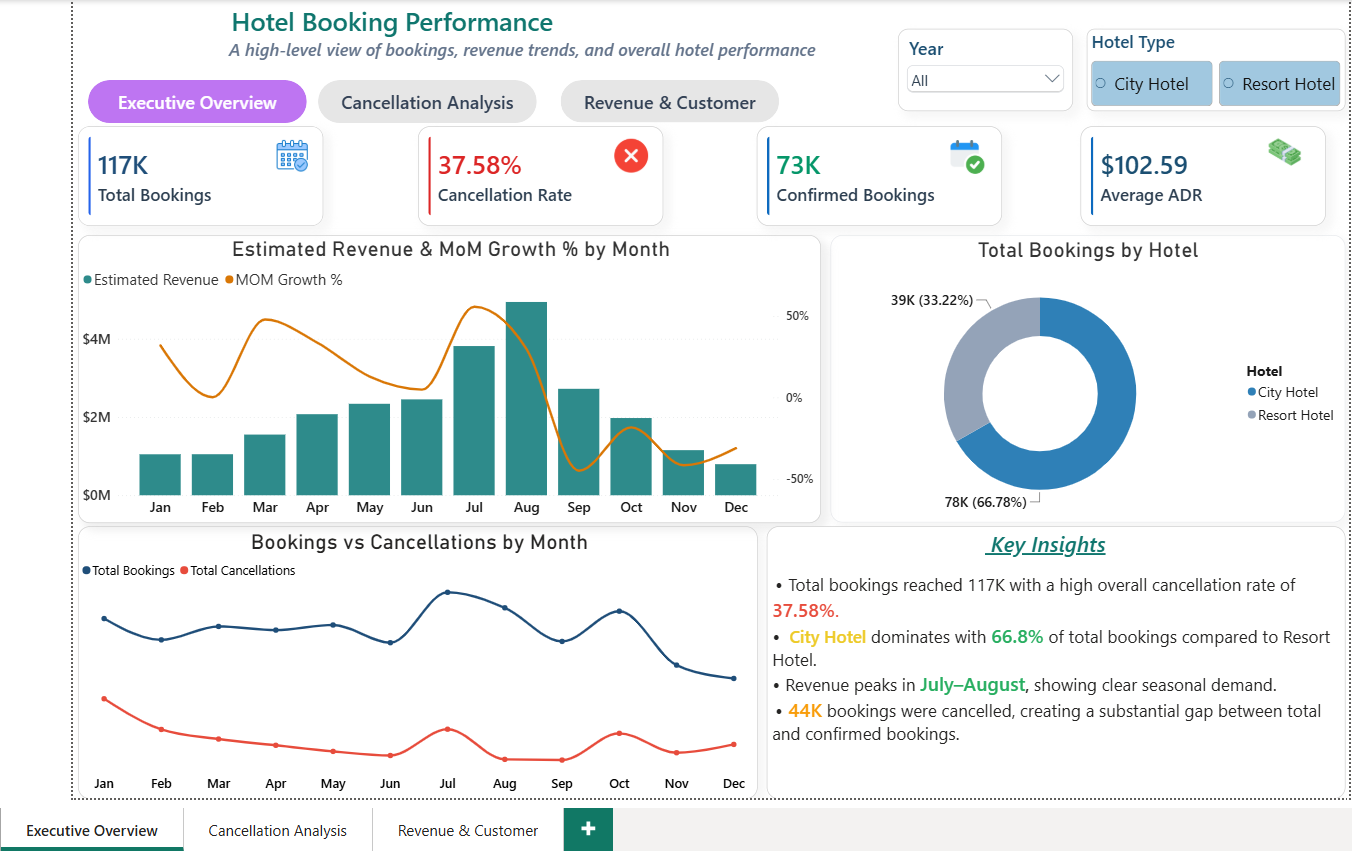

The page's visual inventory and layout, read from the dashboard file:
{"tool":"powerbi","page":{"name":"Executive Overview","canvas":[1600,1000],"ordinal":0},"visuals":[{"type":"textbox","box":[158.1,0,790.5,82],"z":0},{"type":"lineChart","title":"Bookings vs Cancellations by Month","fields":{"Category":["Calendar Table.Month Name"],"Y":["_Measure.Total Bookings","_Measure.Total Cancellations"]},"box":[6.3,659.1,851,341.3],"z":1000},{"type":"donutChart","title":"Total Bookings by Hotel","fields":{"Category":["hotel_bookings_clean.hotel"],"Y":["hotel_bookings_clean.Total Bookings"]},"box":[948.7,294.3,645,360.1],"z":2000},{"type":"lineClusteredColumnComboChart","title":"Estimated Revenue & MoM Growth % by Month","fields":{"Category":["Calendar Table.Month Name"],"Y":["_Measure.Estimated Revenue"],"Y2":["_Measure.MOM Growth %"]},"box":[6.8,293.8,930.7,361],"z":3000},{"type":"cardVisual","fields":{"Data":["_Measure.Total Bookings"]},"box":[6.3,158.1,307,125],"z":4000},{"type":"cardVisual","fields":{"Data":["_Measure.Cancellation Rate"]},"box":[432.1,158.1,307,125],"z":5000},{"type":"slicer","fields":{"Values":["Calendar Table.Year"]},"box":[1033.2,36,219.2,103.3],"z":6000},{"type":"actionButton","box":[18.8,100.2,274,54],"z":7000},{"type":"actionButton","box":[306.8,100.2,274,54],"z":8000},{"type":"actionButton","box":[610.5,100.2,274,53.2],"z":9000},{"type":"advancedSlicerVisual","fields":{"Values":["hotel_bookings_clean.hotel"]},"box":[1269.6,36,324,103.3],"z":10000},{"type":"cardVisual","fields":{"Data":["_Measure.Confirmed Bookings"]},"box":[856.3,158.1,307,125],"z":11000},{"type":"cardVisual","fields":{"Data":["_Measure.Avg ADR"]},"box":[1261.7,158.1,307,125],"z":12000},{"type":"textbox","box":[868.8,659.1,724.8,341.3],"z":13000},{"type":"image","box":[251.4,173.2,45,42],"z":14000},{"type":"image","box":[676,173.2,45,42.5],"z":15000},{"type":"image","box":[1097.2,174.9,45.9,42.5],"z":16000},{"type":"image","box":[1494.6,169.8,45,42],"z":17000}]}

Visuals, with their boxes on the page's 1600x1000 design canvas (x1, y1, x2, y2). These are canvas units, not pixel positions in the 1352x851 screenshot, which may show the page scaled, cropped or inside an application window:
textbox: (158,0,949,82)
"Bookings vs Cancellations by Month" lineChart: (6,659,857,1000)
"Total Bookings by Hotel" donutChart: (949,294,1594,654)
"Estimated Revenue & MoM Growth % by Month" lineClusteredColumnComboChart: (7,294,938,655)
cardVisual - _Measure.Total Bookings: (6,158,313,283)
cardVisual - _Measure.Cancellation Rate: (432,158,739,283)
slicer - Calendar Table.Year: (1033,36,1252,139)
actionButton: (19,100,293,154)
actionButton: (307,100,581,154)
actionButton: (610,100,884,153)
advancedSlicerVisual - hotel_bookings_clean.hotel: (1270,36,1594,139)
cardVisual - _Measure.Confirmed Bookings: (856,158,1163,283)
cardVisual - _Measure.Avg ADR: (1262,158,1569,283)
textbox: (869,659,1594,1000)
image: (251,173,296,215)
image: (676,173,721,216)
image: (1097,175,1143,217)
image: (1495,170,1540,212)
